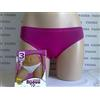mutande: (19, 25, 83, 59)
